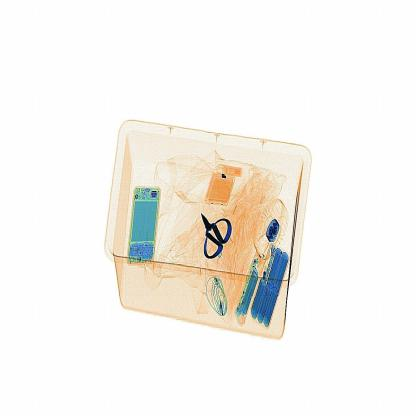gun: (190, 202, 238, 261)
